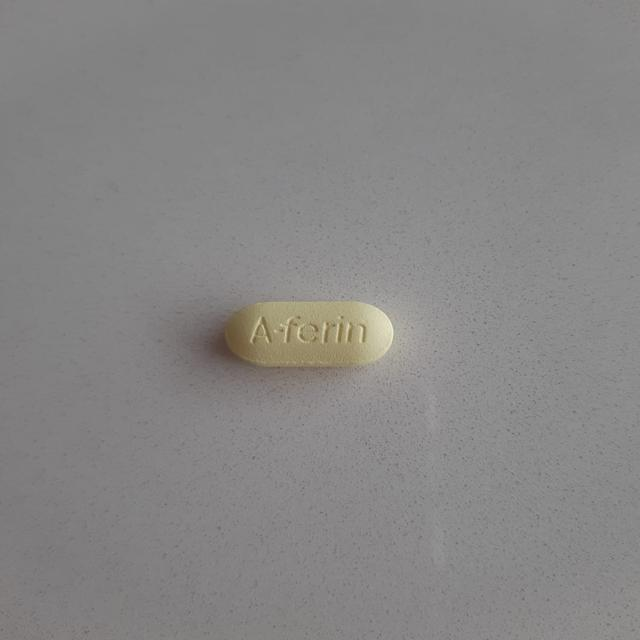pills: (222, 288, 404, 375)
